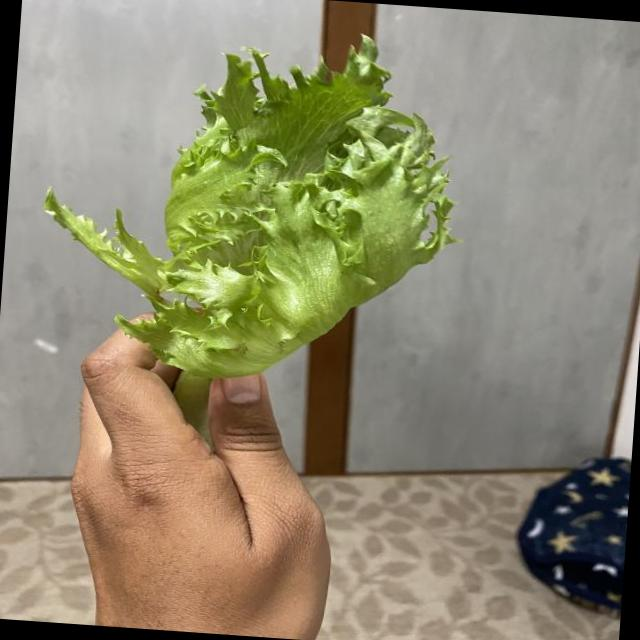Lettuce-Ready-to-Harvest: (44, 38, 452, 425)
